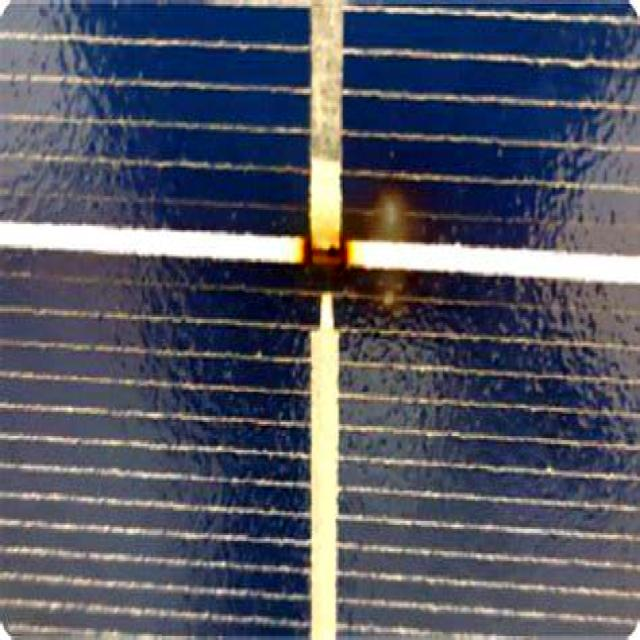shadow: (280, 159, 429, 338)
